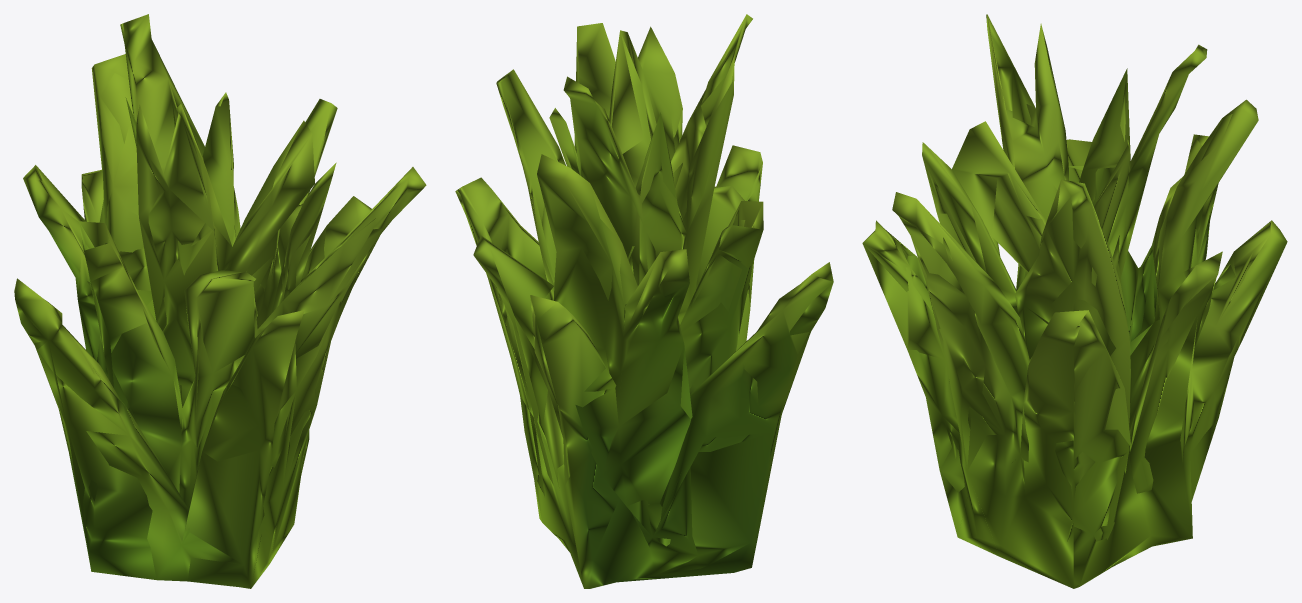
The model's file is gen3d-dune-grass-clump-lod0.glb.
3 renders of one model, left to right at view 1: azimuth 30°, elevation 25°; view 2: azimuth 150°, elevation 25°; view 3: azimuth 270°, elevation 25°, orthographic. The views are drawn at different scales.
Parts seen in each view (by area): view 1: part_0; view 2: part_0; view 3: part_0.
Part boxes in pixels (x1,y1,x2,y2): part_0: (14,14,426,588); part_0: (455,14,833,588); part_0: (862,14,1287,588).
Size of the model in its own units: 0.7673 by 0.9983 by 0.7713.
